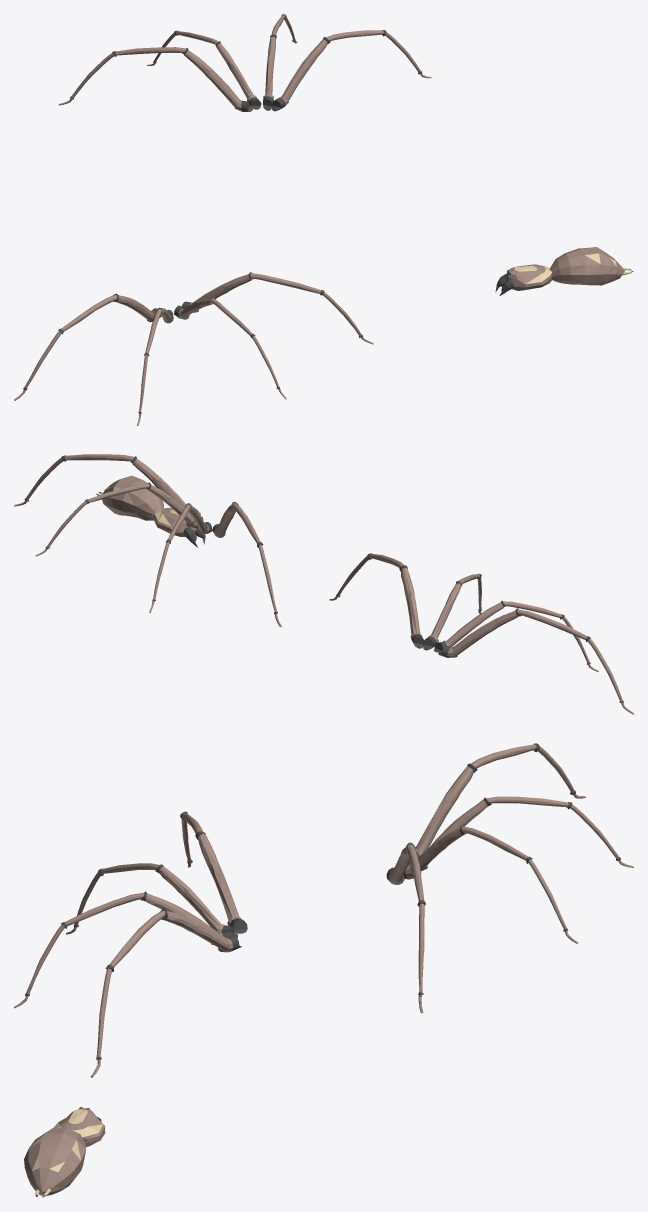
The picture shows the model from 3 angles, top to bottom: view 1: azimuth 30°, elevation 25°; view 2: azimuth 150°, elevation 25°; view 3: azimuth 270°, elevation 25°; orthographic projection. The views are drawn at different scales.
Visible parts, largest first — view 1: mesh_2118968245, mesh_2019175954, mesh_1388901491, mesh_1083415259; view 2: mesh_2118968245, mesh_1388901491.001, mesh_1083415259.001, mesh_2019175954, mesh_750381674.001, mesh_1083415259, mesh_1958269220.001, mesh_1186193259.001, mesh_1656779065, mesh_1958269220; view 3: mesh_2118968245, mesh_1388901491, mesh_2019175954, mesh_1388901491.001, mesh_1083415259.001, mesh_750381674.001.
Part boxes in pixels (bbox=[...]): mesh_2118968245: bbox=[550, 247, 624, 285]; mesh_2019175954: bbox=[505, 264, 552, 290]; mesh_1388901491: bbox=[184, 50, 240, 107]; mesh_1083415259: bbox=[281, 39, 327, 100]; mesh_2118968245: bbox=[102, 475, 163, 520]; mesh_1388901491.001: bbox=[453, 610, 518, 655]; mesh_1083415259.001: bbox=[401, 568, 420, 634]; mesh_2019175954: bbox=[154, 507, 196, 536]; mesh_750381674.001: bbox=[446, 602, 503, 646]; mesh_1083415259: bbox=[132, 459, 185, 507]; mesh_1958269220.001: bbox=[430, 583, 461, 638]; mesh_1186193259.001: bbox=[517, 609, 587, 640]; mesh_1656779065: bbox=[64, 454, 134, 461]; mesh_1958269220: bbox=[147, 485, 194, 524]; mesh_2118968245: bbox=[24, 1127, 86, 1195]; mesh_1388901491: bbox=[416, 766, 473, 852]; mesh_2019175954: bbox=[54, 1108, 105, 1147]; mesh_1388901491.001: bbox=[198, 833, 239, 920]; mesh_1083415259.001: bbox=[163, 911, 229, 949]; mesh_750381674.001: bbox=[159, 866, 221, 931].
Size of the model in its own units: 442 by 166 by 308.
